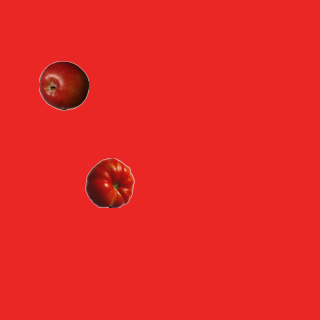Apple Braeburn: (38, 60, 88, 110)
Tomato 3: (84, 157, 134, 207)
